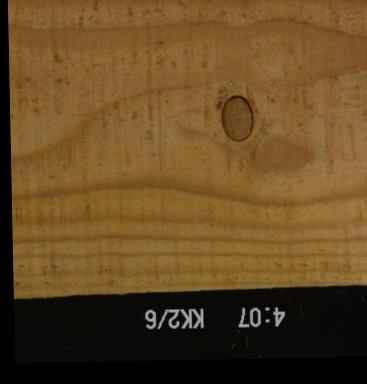dry_knot: (220, 93, 255, 142)
